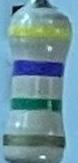Blue: (13, 58, 65, 79)
Green: (10, 96, 61, 112)
Side-Silver: (3, 132, 65, 148)
Yellow: (10, 27, 71, 41)
